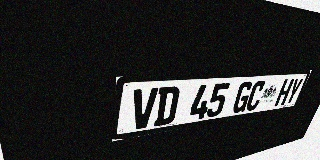4: (188, 84, 214, 121)
5: (206, 83, 230, 118)
C: (244, 80, 267, 111)
D: (153, 86, 181, 127)
G: (231, 81, 254, 114)
H: (274, 79, 295, 107)
V: (130, 87, 158, 130)
Y: (284, 78, 304, 105)
